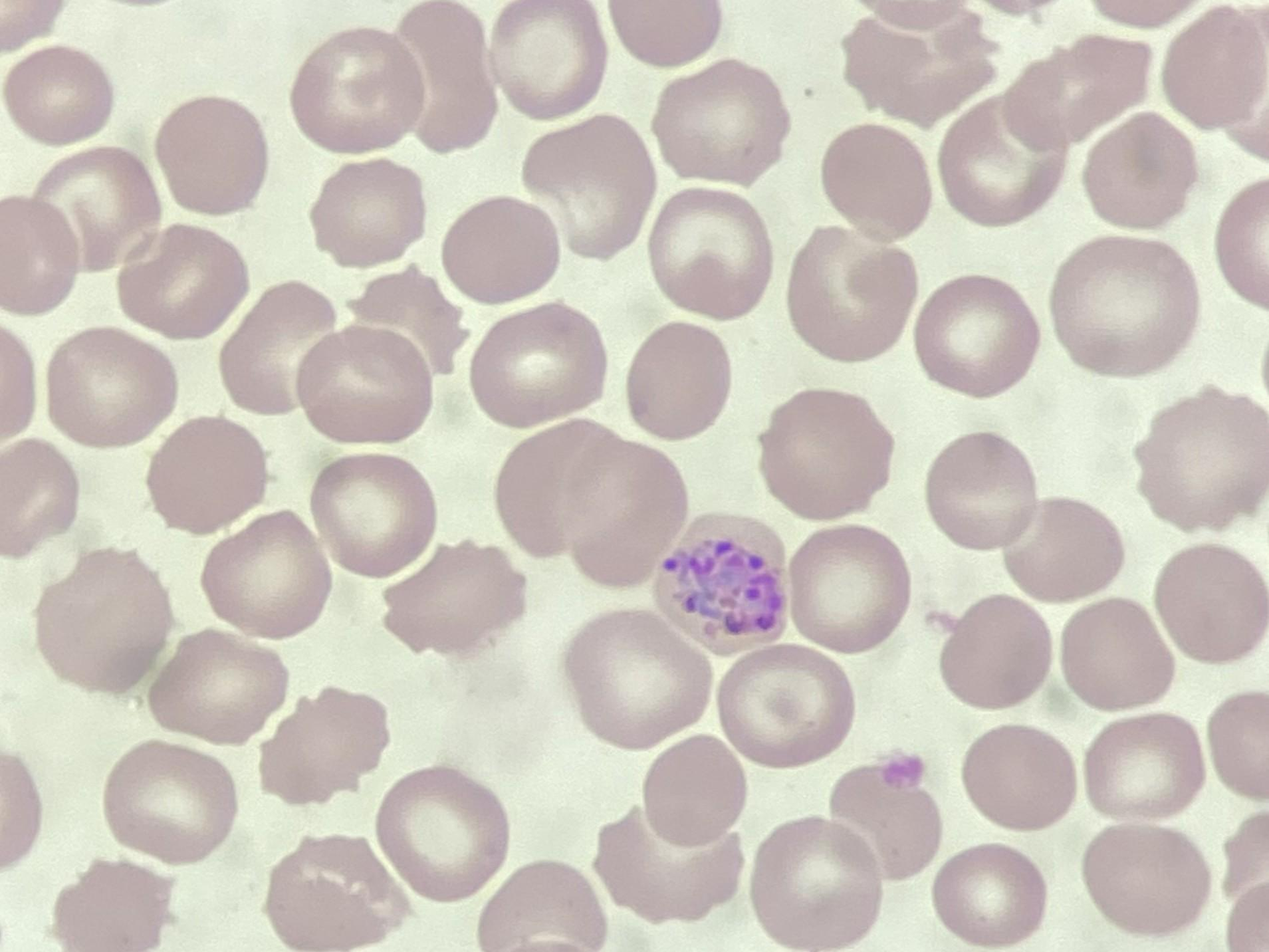Infected: (654, 513, 790, 654)
Uninfected: (497, 417, 681, 582), (1050, 236, 1197, 378), (32, 548, 170, 695), (564, 612, 710, 747), (520, 115, 657, 257), (1133, 388, 1269, 527), (376, 768, 511, 902), (785, 227, 918, 363), (762, 393, 898, 525), (840, 11, 994, 127), (469, 304, 608, 430), (380, 538, 528, 656), (595, 805, 742, 923), (749, 820, 884, 947), (294, 324, 435, 445), (651, 63, 788, 187), (263, 836, 409, 951), (200, 515, 332, 642), (104, 743, 237, 868), (717, 644, 851, 767), (292, 31, 426, 154), (1005, 41, 1149, 155), (937, 98, 1066, 225), (220, 283, 340, 418), (647, 190, 771, 318), (148, 632, 286, 747), (45, 328, 175, 449), (397, 1, 504, 148), (787, 526, 911, 652), (310, 455, 437, 578), (35, 148, 162, 271), (256, 685, 386, 804), (118, 225, 247, 341), (913, 275, 1037, 395), (147, 415, 269, 533), (1080, 823, 1207, 933), (1151, 545, 1267, 665), (154, 97, 271, 215), (1081, 114, 1199, 230), (487, 3, 606, 117), (828, 760, 941, 879), (926, 431, 1040, 548), (1161, 7, 1266, 134), (938, 595, 1056, 708), (348, 264, 466, 375), (818, 125, 933, 238), (441, 197, 560, 306), (637, 733, 746, 852), (310, 160, 427, 269), (1083, 713, 1202, 820), (1060, 598, 1174, 709), (626, 320, 731, 439), (959, 725, 1075, 832), (1000, 499, 1119, 602), (50, 859, 177, 951), (931, 846, 1044, 944), (6, 43, 114, 144)
